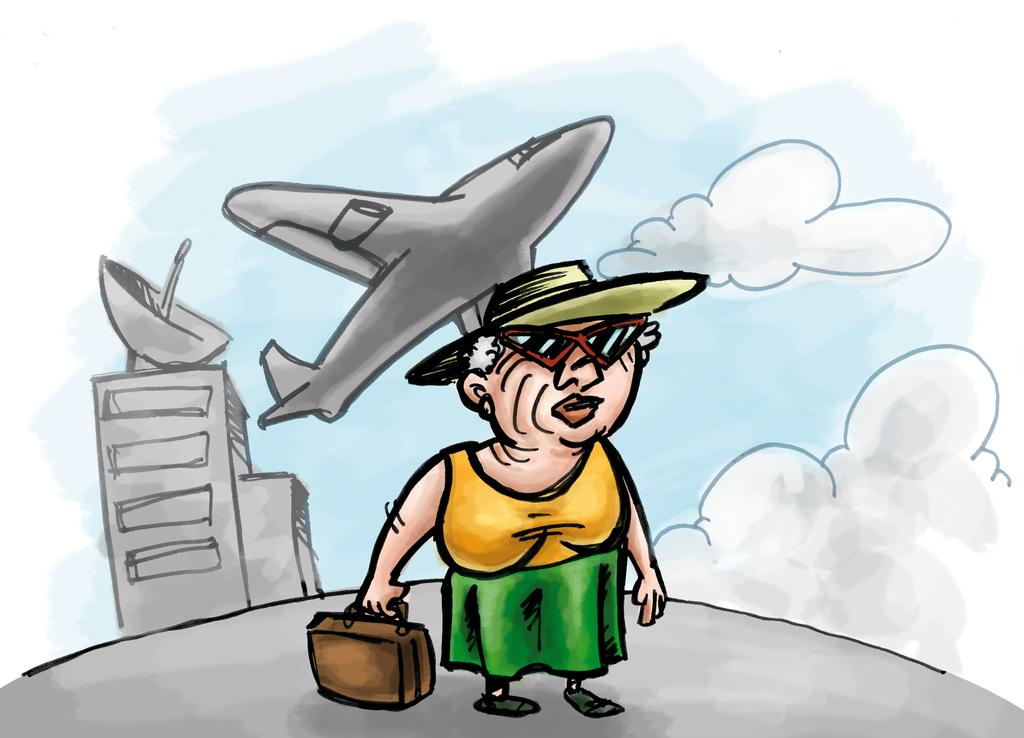Luggage-and-bags: (307, 602, 443, 713)
